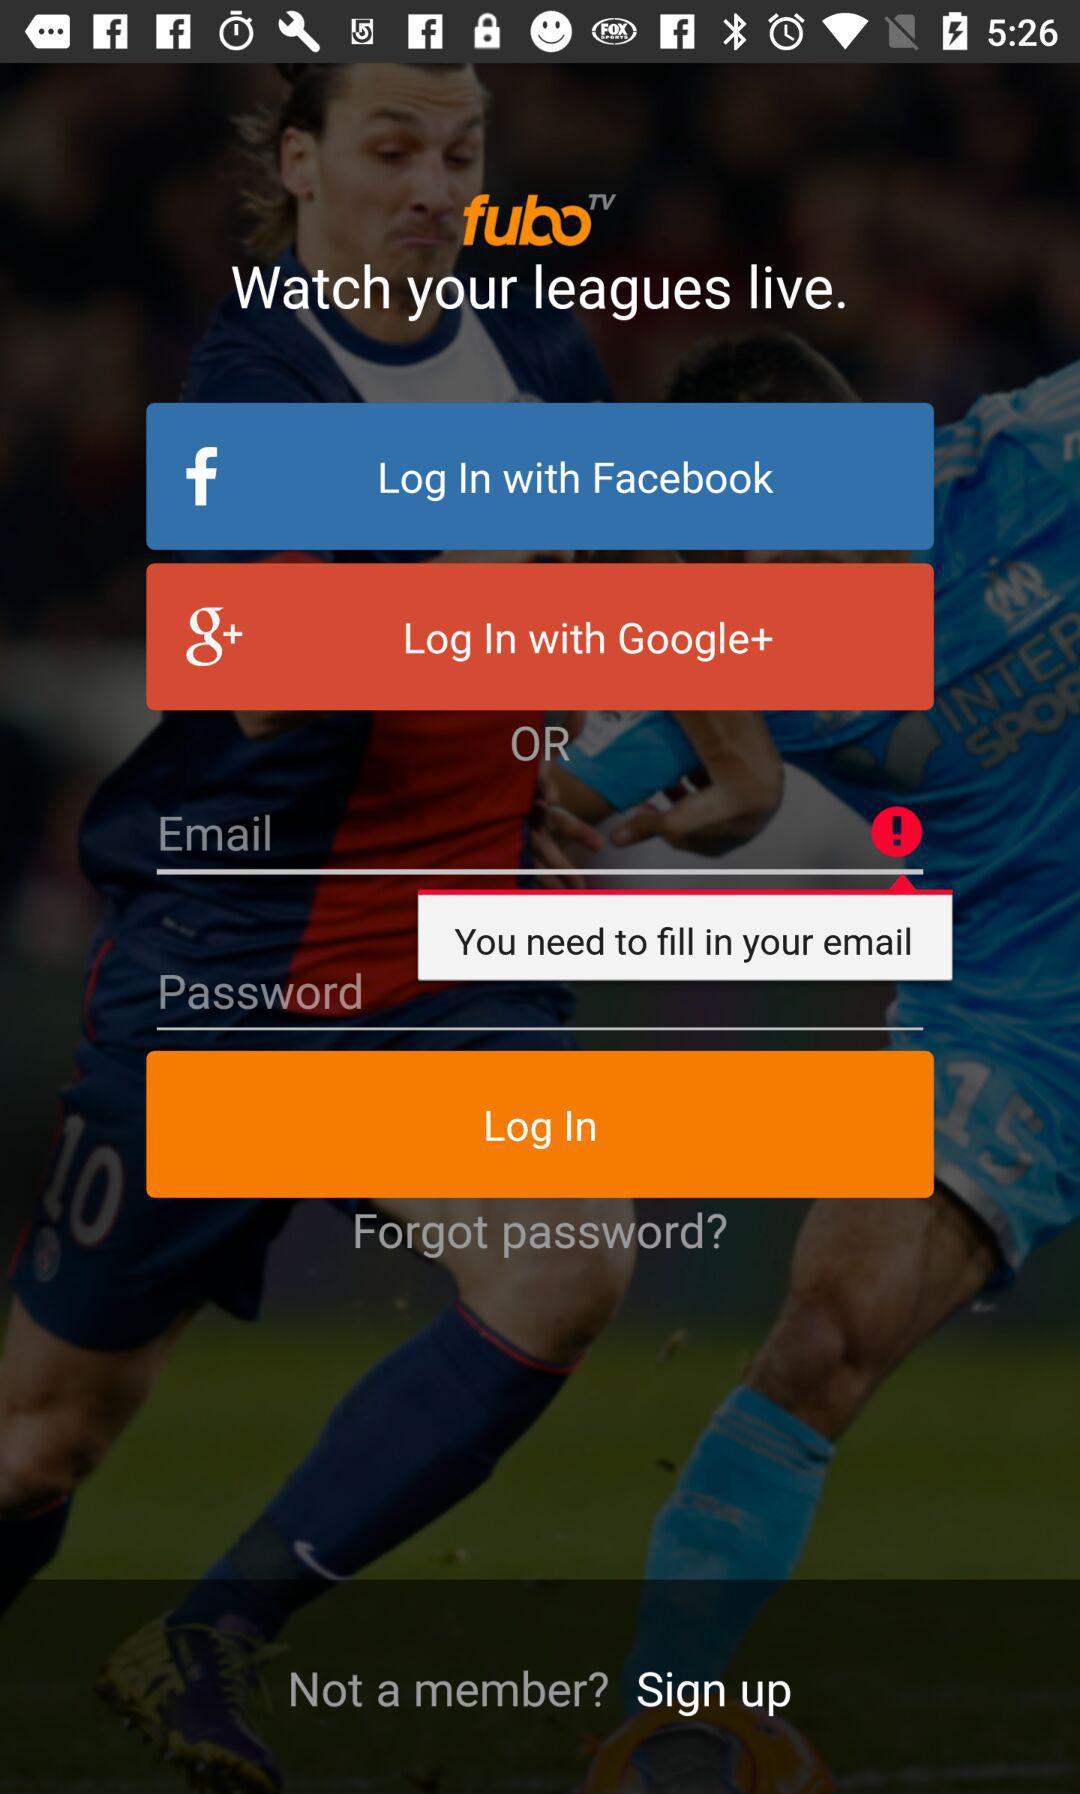BackgroundImage: (1, 64, 1080, 1794)
EditText: (158, 805, 924, 876), (158, 973, 924, 1032)
Icon: (870, 805, 922, 859)
Image: (462, 193, 618, 249)
Text: (231, 263, 847, 324), (354, 1211, 728, 1260), (455, 926, 912, 964), (160, 973, 363, 1011), (160, 815, 272, 853), (511, 727, 571, 762)
TextButton: (1, 1579, 1080, 1794), (146, 563, 935, 712), (146, 1051, 935, 1199), (146, 402, 935, 551)
UpperTaskBar: (1, 1, 1080, 64)
